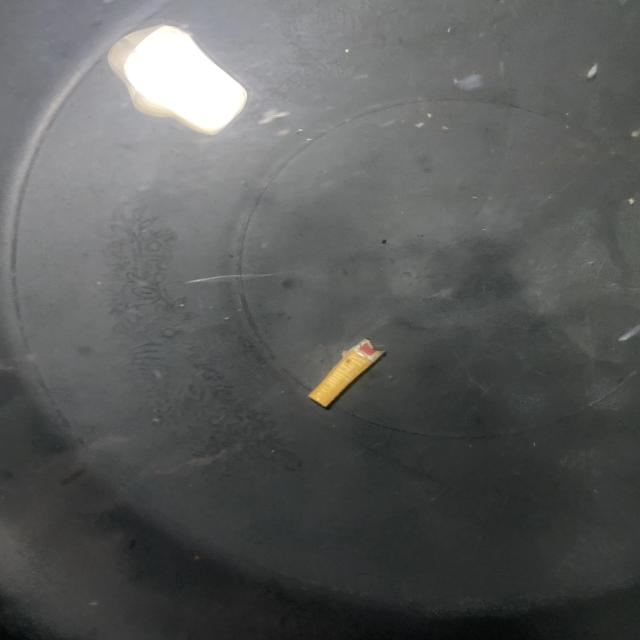Cigarette Filter: (308, 329, 378, 413)
